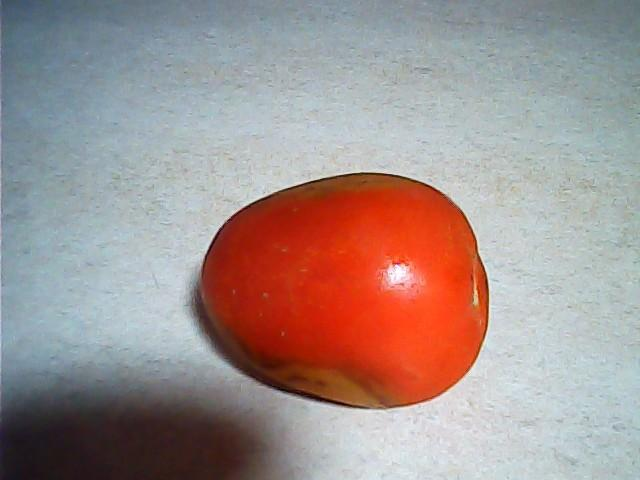maduro: (188, 169, 505, 413)
